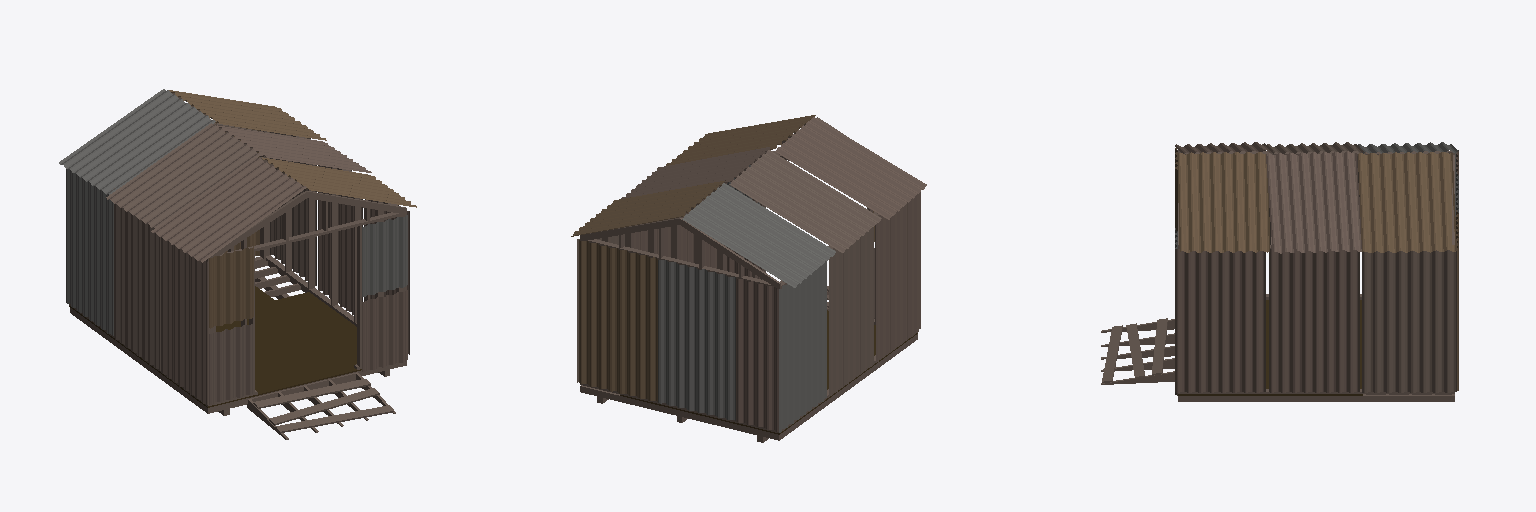
File: shack.obj
3 renders of one model, left to right at view 1: azimuth 30°, elevation 25°; view 2: azimuth 150°, elevation 25°; view 3: azimuth 270°, elevation 25°, orthographic.
Parts seen in each view (by area): view 1: Frame_Mesh74_Group24_Group22_floor_framing1_Component_2_1_Storag, Sheeting..006_Mesh106_Corrugated_5_6_Group1_Model, Sheeting..004_Mesh104_Corrugated_5_4_Group1_Model, Sheeting..005_Mesh105_Corrugated_5_5_Group1_Model, Sheeting..003_Mesh98_Corrugated3_Group1_Model, Sheeting..001_Mesh101_Corrugated5_Group1_Model, Sheeting..002_Mesh99_Corrugated4_Group1_Model, Floorboards.002_Mesh22_G_2x8_panel1_Storage_Shed1_Group1_Model, Sheeting..007_Mesh97_Corrugated_6_2_Group1_Model, Sheeting..008_Mesh94_Corrugated_6_1_Group1_Model, Sheeting._Mesh110_Corrugated_6_4_Group1_Model, Sheeting.__Mesh108_Corrugated_6_3_Group1_Model (+8 smaller); view 2: Sheeting..015_Mesh92_Corrugated_3_1_Group1_Model, Sheeting..016_Mesh109_Corrugated_3_2_Group1_Model, Sheeting..006_Mesh106_Corrugated_5_6_Group1_Model, Sheeting..005_Mesh105_Corrugated_5_5_Group1_Model, Sheeting..004_Mesh104_Corrugated_5_4_Group1_Model, Frame_Mesh74_Group24_Group22_floor_framing1_Component_2_1_Storag, Sheeting..003_Mesh98_Corrugated3_Group1_Model, Sheeting..017_Mesh102_Corrugated_10_1_Group1_Model, Sheeting..002_Mesh99_Corrugated4_Group1_Model, Sheeting..001_Mesh101_Corrugated5_Group1_Model, Sheeting..011_Mesh93_Corrugated_5_1_Group1_Model, Sheeting..010_Mesh103_Corrugated_5_3_Group1_Model (+3 smaller); view 3: Sheeting..012_Mesh96_Corrugated2_Group1_Model, Sheeting..014_Mesh107_Corrugated6_Group1_Model, Sheeting..013_Mesh95_Corrugated1_Group1_Model, Sheeting..011_Mesh93_Corrugated_5_1_Group1_Model, Sheeting..010_Mesh103_Corrugated_5_3_Group1_Model, Sheeting..009_Mesh100_Corrugated_5_2_Group1_Model, Frame_Mesh74_Group24_Group22_floor_framing1_Component_2_1_Storag, Sheeting..006_Mesh106_Corrugated_5_6_Group1_Model, Sheeting..004_Mesh104_Corrugated_5_4_Group1_Model, Sheeting..005_Mesh105_Corrugated_5_5_Group1_Model.
Part boxes in pixels (bbox=[...]): Frame_Mesh74_Group24_Group22_floor_framing1_Component_2_1_Storag: bbox=[69, 93, 406, 439]; Sheeting..006_Mesh106_Corrugated_5_6_Group1_Model: bbox=[59, 89, 215, 194]; Sheeting..004_Mesh104_Corrugated_5_4_Group1_Model: bbox=[151, 156, 306, 262]; Sheeting..005_Mesh105_Corrugated_5_5_Group1_Model: bbox=[106, 123, 260, 227]; Sheeting..003_Mesh98_Corrugated3_Group1_Model: bbox=[66, 169, 113, 335]; Sheeting..001_Mesh101_Corrugated5_Group1_Model: bbox=[162, 238, 207, 404]; Sheeting..002_Mesh99_Corrugated4_Group1_Model: bbox=[115, 204, 160, 370]; Floorboards.002_Mesh22_G_2x8_panel1_Storage_Shed1_Group1_Model: bbox=[255, 334, 361, 387]; Sheeting..007_Mesh97_Corrugated_6_2_Group1_Model: bbox=[362, 290, 407, 371]; Sheeting..008_Mesh94_Corrugated_6_1_Group1_Model: bbox=[362, 215, 407, 296]; Sheeting._Mesh110_Corrugated_6_4_Group1_Model: bbox=[209, 246, 253, 328]; Sheeting.__Mesh108_Corrugated_6_3_Group1_Model: bbox=[209, 323, 253, 404]; Sheeting..015_Mesh92_Corrugated_3_1_Group1_Model: bbox=[579, 240, 657, 401]; Sheeting..016_Mesh109_Corrugated_3_2_Group1_Model: bbox=[658, 260, 735, 420]; Sheeting..006_Mesh106_Corrugated_5_6_Group1_Model: bbox=[682, 183, 835, 287]; Sheeting..005_Mesh105_Corrugated_5_5_Group1_Model: bbox=[729, 150, 881, 253]; Sheeting..004_Mesh104_Corrugated_5_4_Group1_Model: bbox=[775, 117, 926, 219]; Frame_Mesh74_Group24_Group22_floor_framing1_Component_2_1_Storag: bbox=[580, 117, 917, 442]; Sheeting..003_Mesh98_Corrugated3_Group1_Model: bbox=[779, 261, 826, 432]; Sheeting..017_Mesh102_Corrugated_10_1_Group1_Model: bbox=[736, 278, 778, 431]; Sheeting..002_Mesh99_Corrugated4_Group1_Model: bbox=[829, 227, 873, 396]; Sheeting..001_Mesh101_Corrugated5_Group1_Model: bbox=[876, 192, 920, 361]; Sheeting..011_Mesh93_Corrugated_5_1_Group1_Model: bbox=[571, 180, 725, 236]; Sheeting..010_Mesh103_Corrugated_5_3_Group1_Model: bbox=[621, 147, 769, 198]; Sheeting..012_Mesh96_Corrugated2_Group1_Model: bbox=[1362, 250, 1456, 392]; Sheeting..014_Mesh107_Corrugated6_Group1_Model: bbox=[1175, 249, 1265, 392]; Sheeting..013_Mesh95_Corrugated1_Group1_Model: bbox=[1269, 249, 1359, 392]; Sheeting..011_Mesh93_Corrugated_5_1_Group1_Model: bbox=[1358, 152, 1456, 252]; Sheeting..010_Mesh103_Corrugated_5_3_Group1_Model: bbox=[1266, 151, 1361, 253]; Sheeting..009_Mesh100_Corrugated_5_2_Group1_Model: bbox=[1177, 152, 1269, 252]; Frame_Mesh74_Group24_Group22_floor_framing1_Component_2_1_Storag: bbox=[1101, 147, 1454, 401]; Sheeting..006_Mesh106_Corrugated_5_6_Group1_Model: bbox=[1358, 142, 1457, 153]; Sheeting..004_Mesh104_Corrugated_5_4_Group1_Model: bbox=[1175, 142, 1272, 153]; Sheeting..005_Mesh105_Corrugated_5_5_Group1_Model: bbox=[1267, 142, 1363, 153].
Bounding box in the file's own units: 2.75 × 2.44 × 3.79.